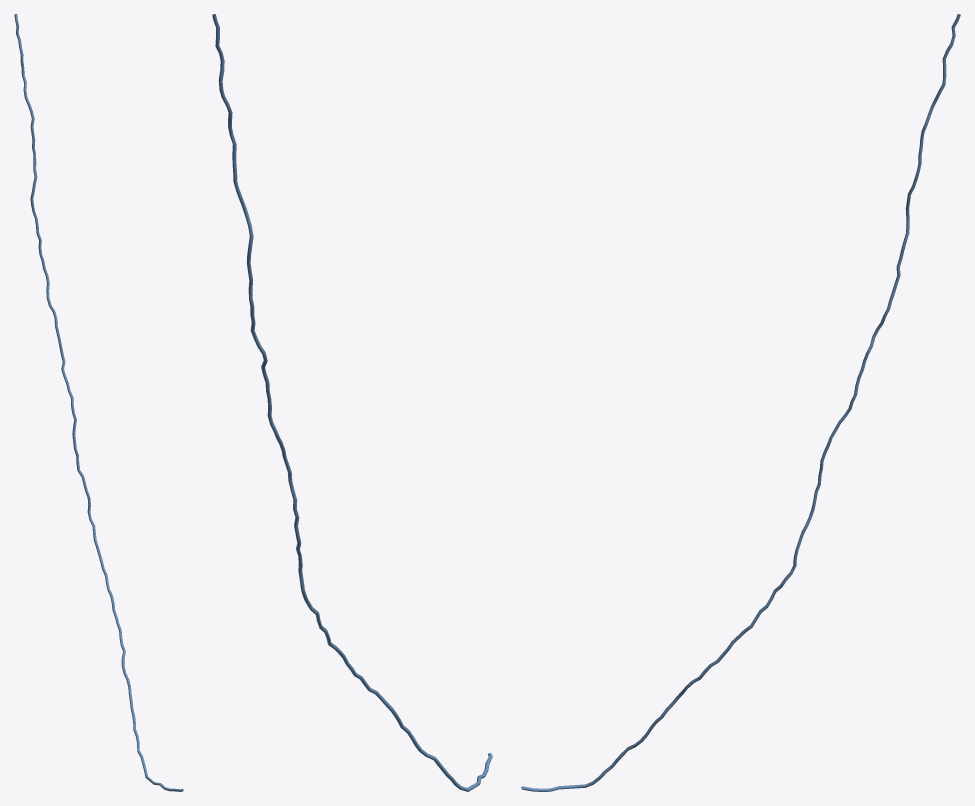
Rendered from sweep342.fbx.
3 views of the same model, side by side, from view 1: azimuth 30°, elevation 25°; view 2: azimuth 150°, elevation 25°; view 3: azimuth 270°, elevation 25° (orthographic). The views are drawn at different scales.
Parts seen in each view (by area): view 1: sweep342; view 2: sweep342; view 3: sweep342.
Part boxes in pixels (box(x1,y1,x2,y2)): sweep342: box(14, 14, 183, 791); sweep342: box(212, 14, 492, 791); sweep342: box(521, 14, 960, 791).
Bounding box in the file's own units: 0.2587 × 5.07 × 2.56.
